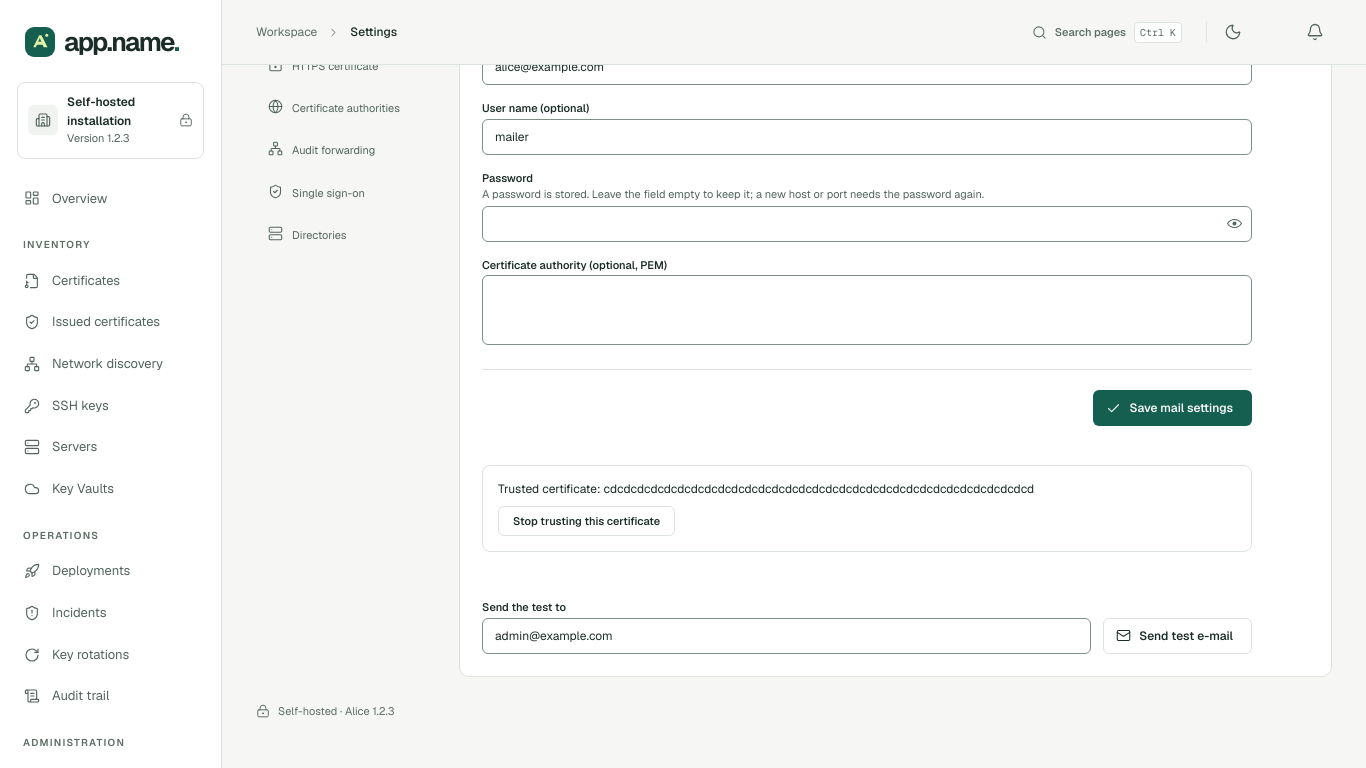
Test: SettingsPage, mail › stops trusting a certificate
(page scrolled)
Click the button "Stop trusting this certificate" at (587, 521), box [498,506,675,536]
(page scrolled)
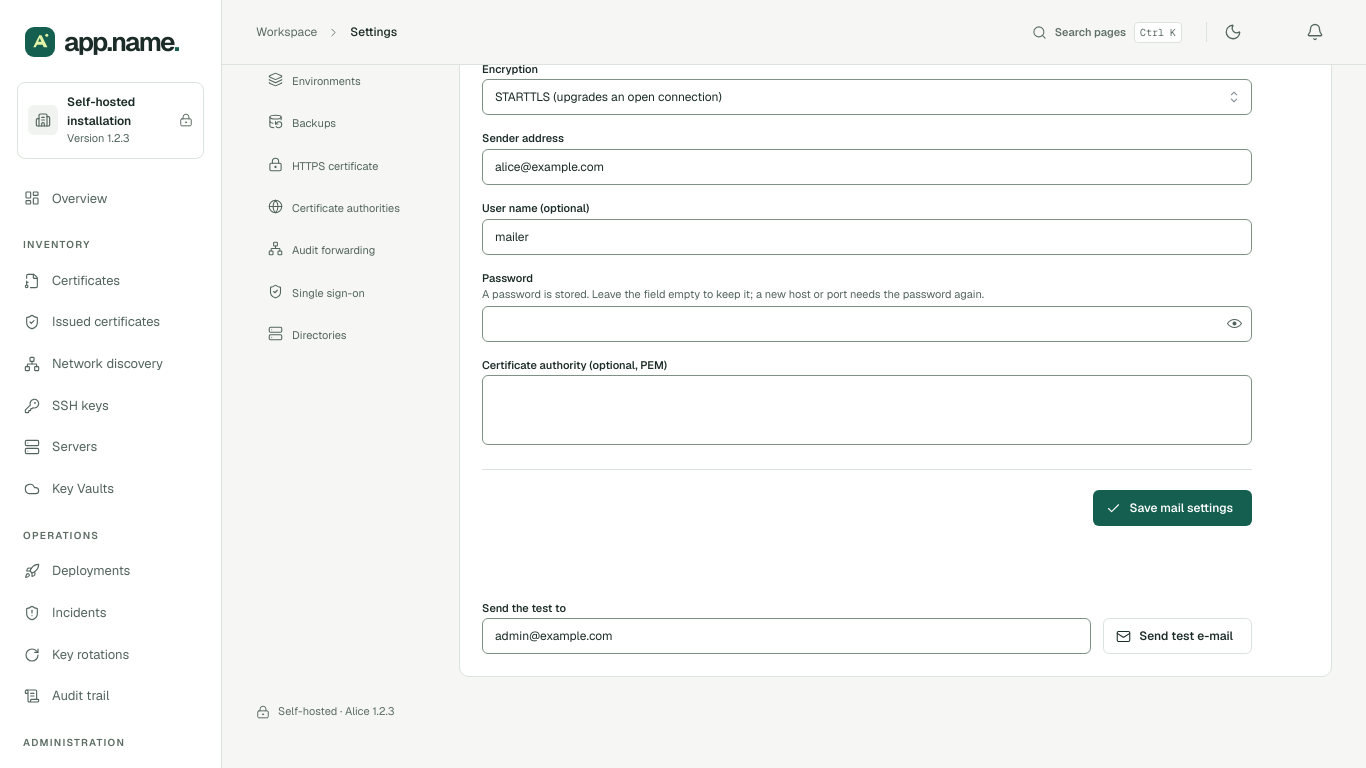
Check: the text "Trusted certificate:" is gone
